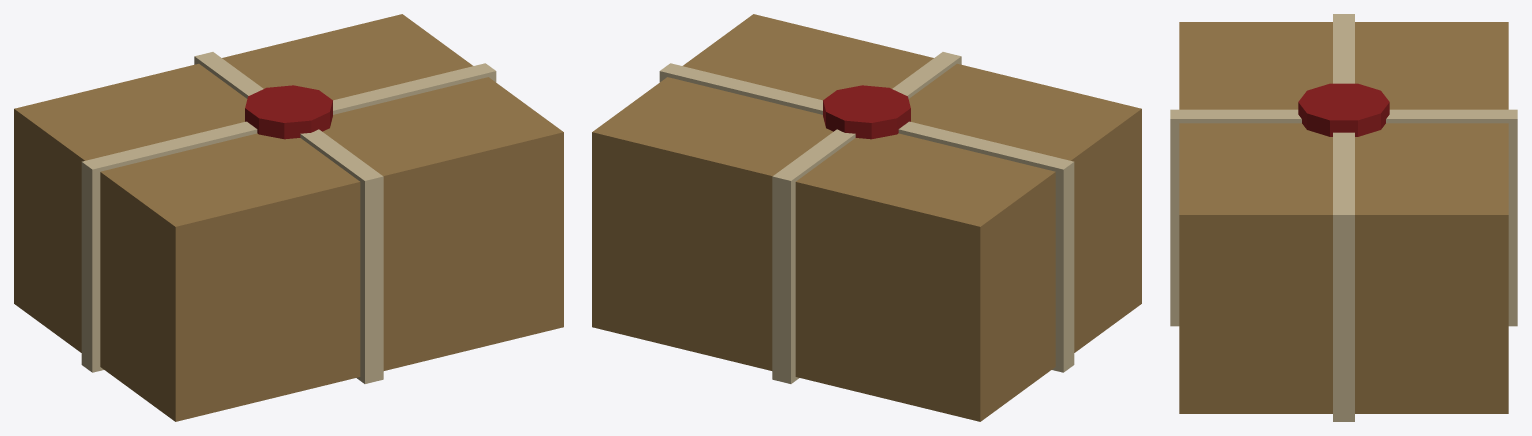
The model's file is TownFind_post.glb.
3 renders of one model, left to right at view 1: azimuth 30°, elevation 25°; view 2: azimuth 150°, elevation 25°; view 3: azimuth 270°, elevation 25°, orthographic.
Visible parts, largest first — view 1: TownFind_post.001; view 2: TownFind_post.001; view 3: TownFind_post.001.
Boxes of the visible parts, <box> form: TownFind_post.001: <box>14,14,563,421</box>; TownFind_post.001: <box>592,14,1141,421</box>; TownFind_post.001: <box>1170,14,1517,421</box>.
Bounding box in the file's own units: 0.26 × 0.1325 × 0.19.
